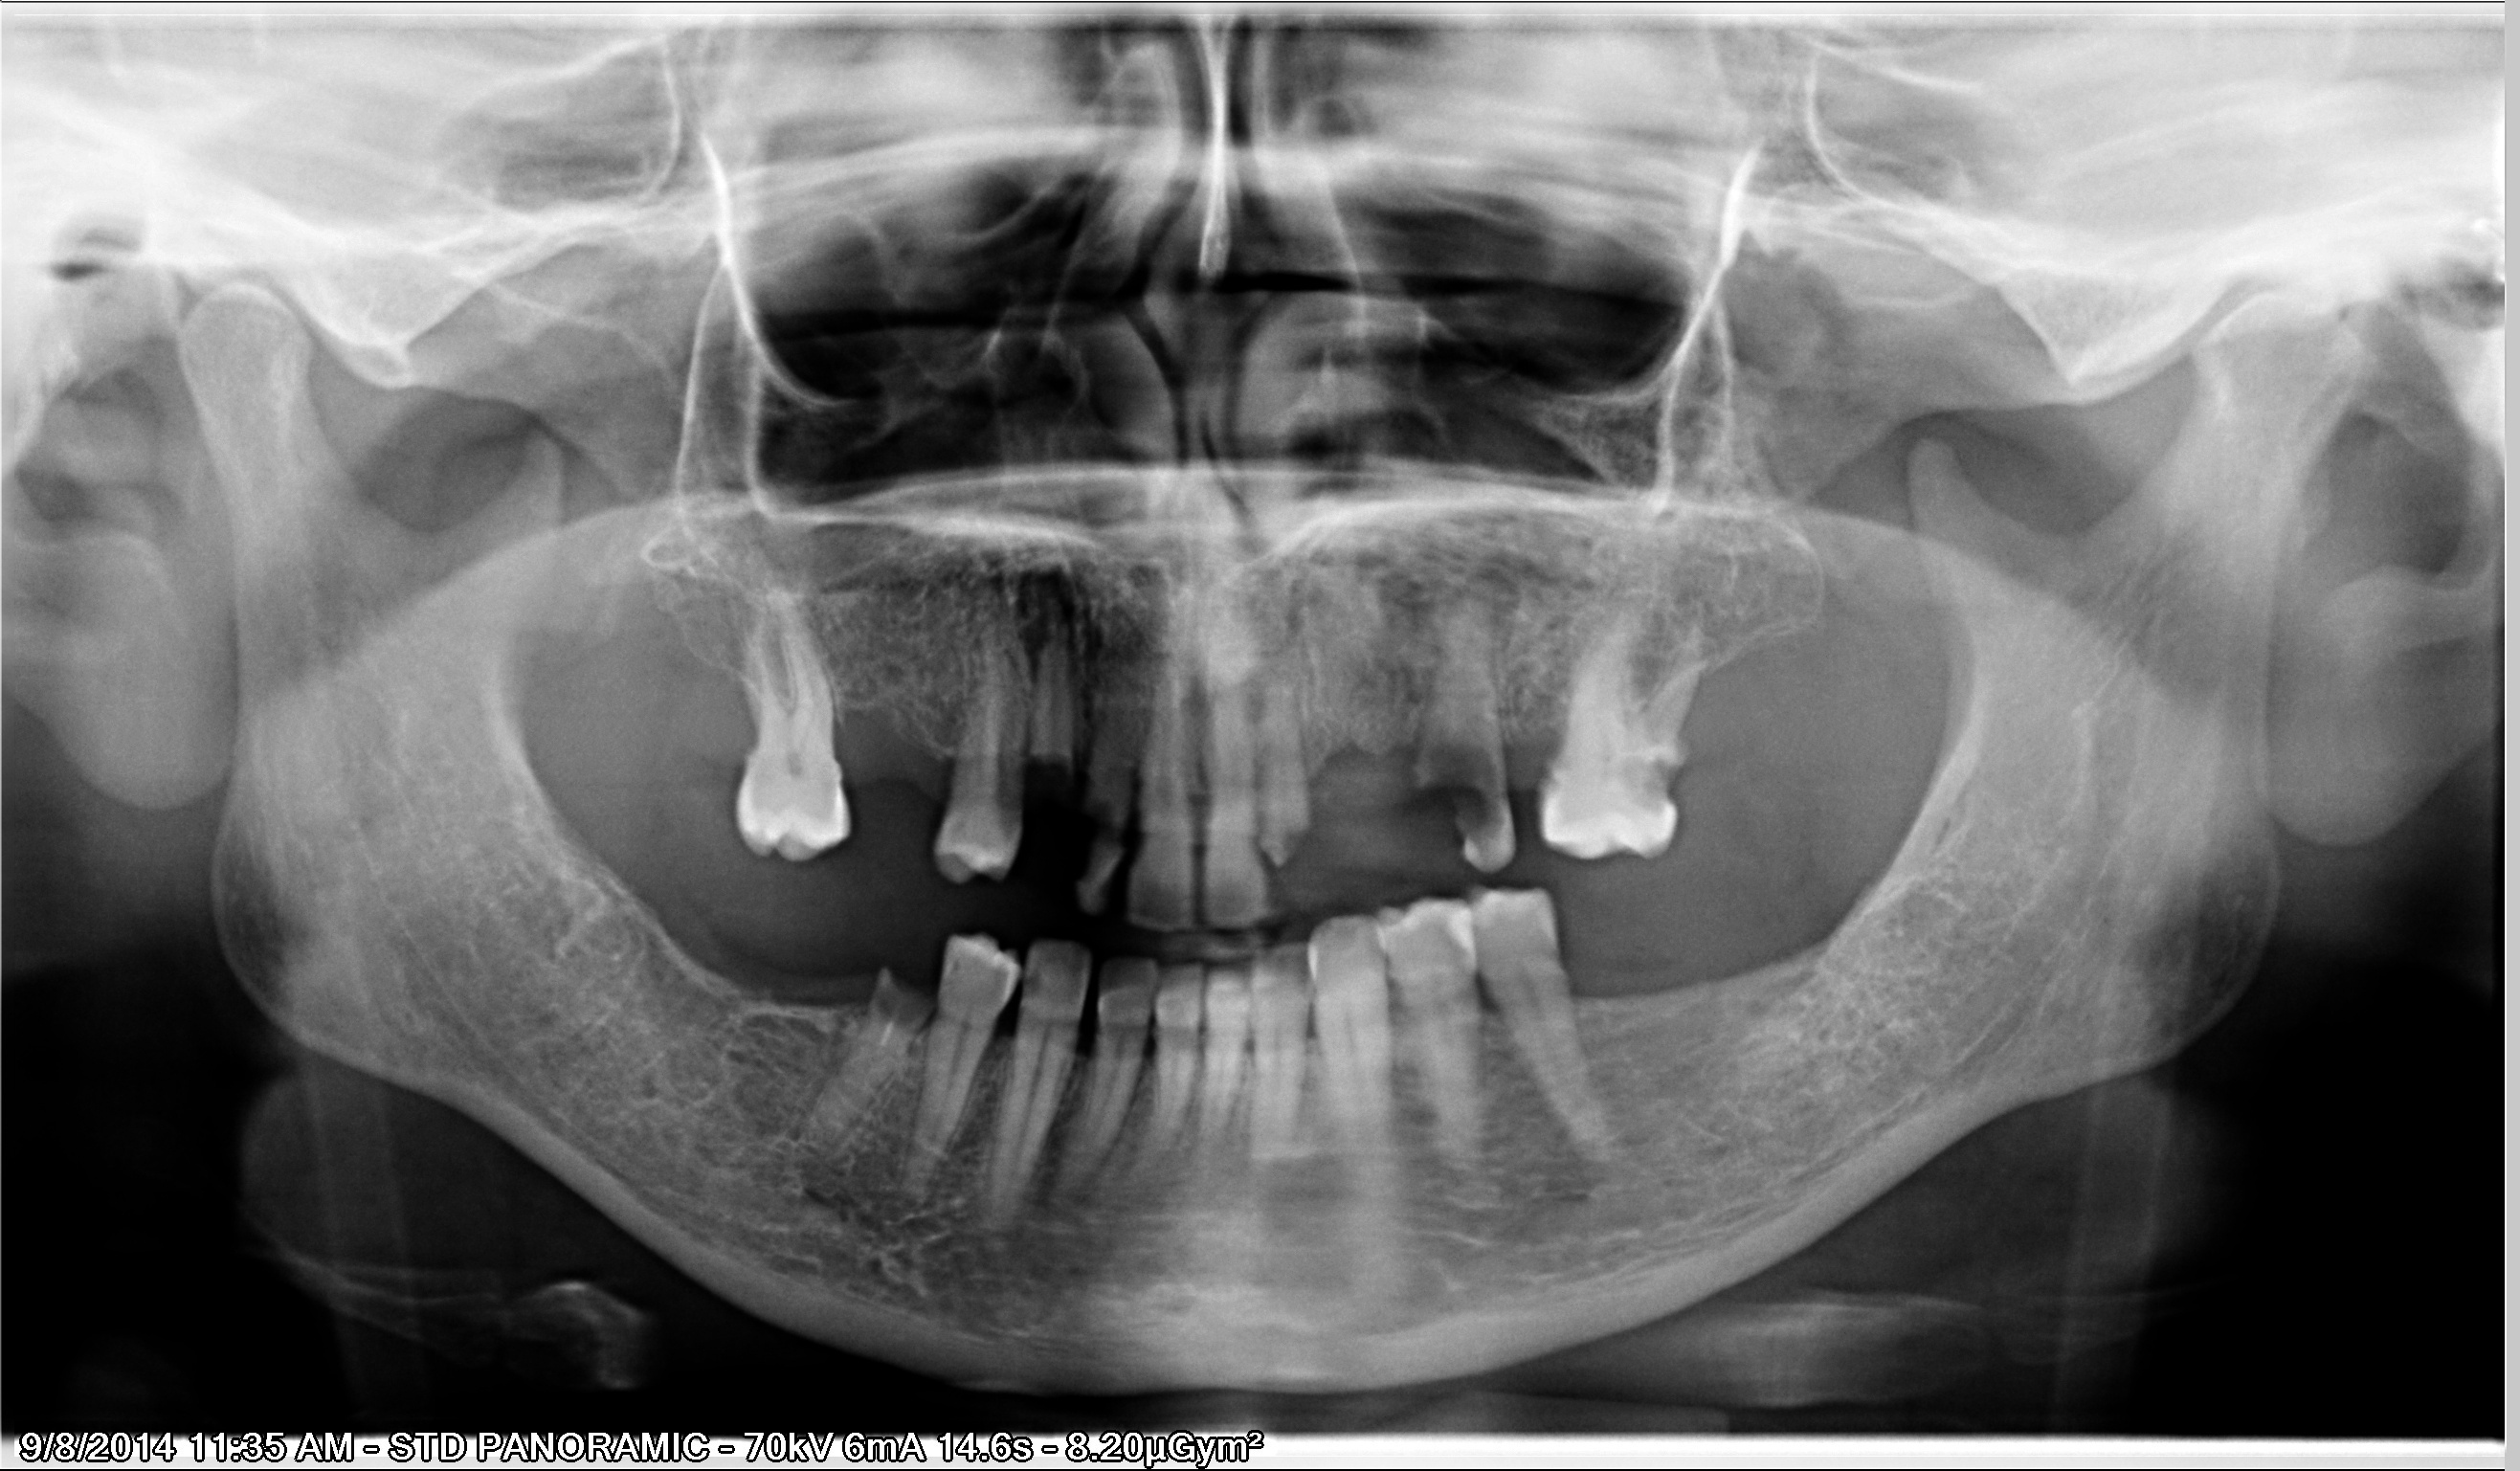API: (466, 224, 1569, 905)
BON: (366, 331, 1305, 1082)
CAR: (522, 357, 1634, 1240)
ROT: (494, 247, 1566, 1026)
